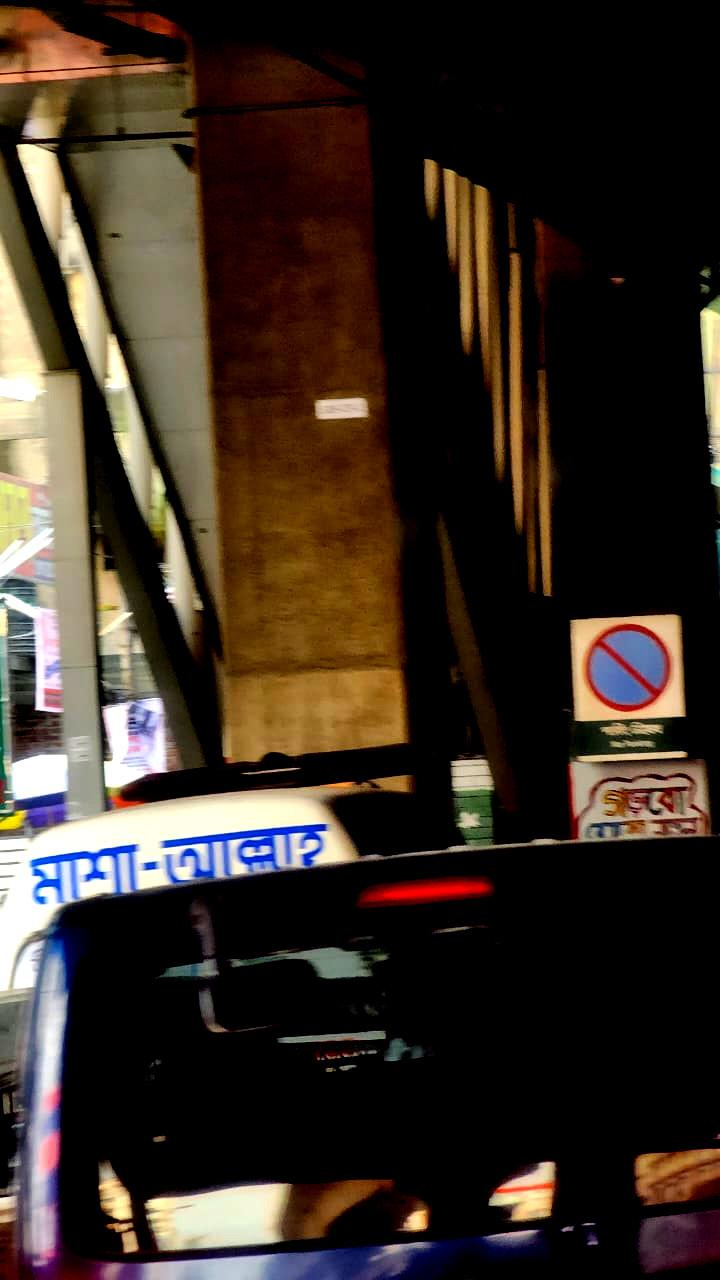No Parking: (570, 598, 690, 732)
